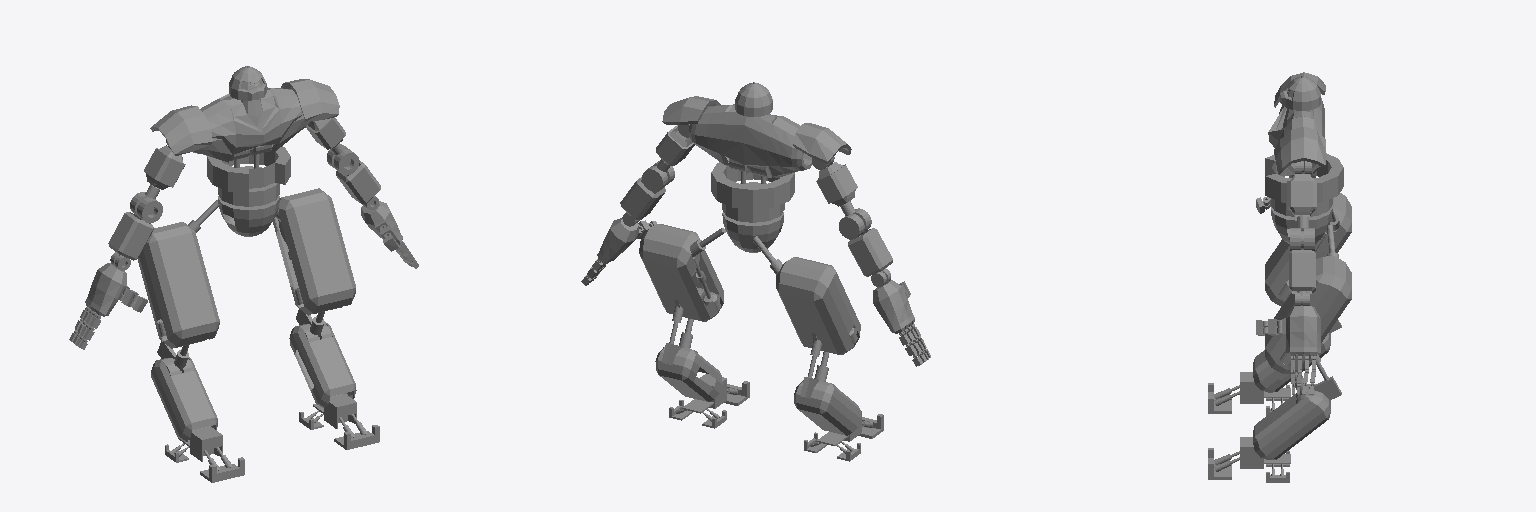
The picture shows the model from 3 angles: view 1: azimuth 30°, elevation 25°; view 2: azimuth 150°, elevation 25°; view 3: azimuth 270°, elevation 25°; orthographic projection.
Parts seen in each view (by area): view 1: Cylinder; view 2: Cylinder; view 3: Cylinder.
Boxes of the visible parts, box(x1,y1,x2,y2) form: Cylinder: box(69, 66, 418, 482); Cylinder: box(581, 82, 930, 461); Cylinder: box(1208, 72, 1351, 482).
Size of the model in its own units: 18.25 by 18.55 by 6.69.
Materials: 1 (1 with a texture image).